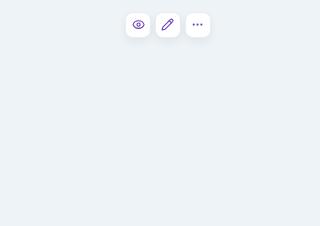
Test case: Projetos — referência Clientes › aguardando pagamento preserva pagar, editar, cancelar e arquivar
This screenshot has width=320, height=226.
Later steps or results of the test are not shown.
Click the button named "Mais ações — Teste": point(198, 25) [185, 12, 211, 38]
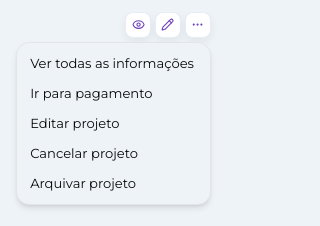
expect the menu item "Arquivar projeto" is shown: met, box [30, 175, 136, 191]
expect the menu item "Cancelar projeto" is shown: met, box [30, 145, 138, 161]
